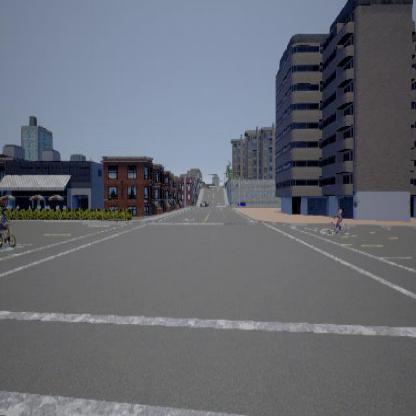bike: (324, 206, 349, 237), (0, 207, 17, 247)
